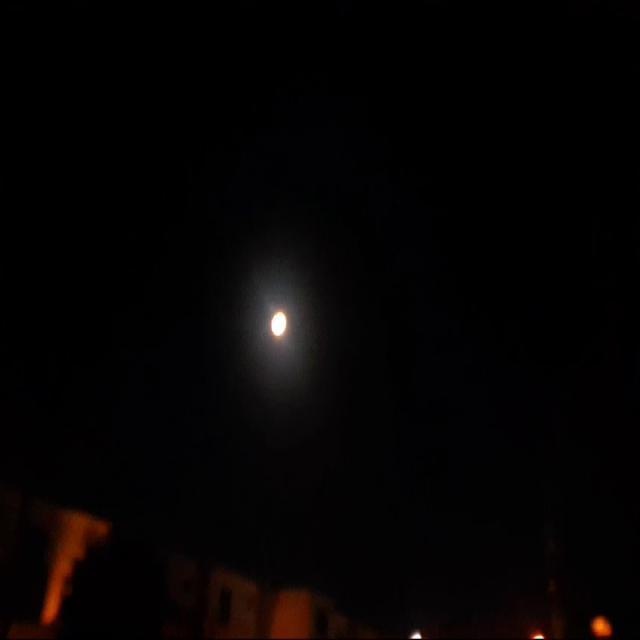moon: (265, 303, 287, 342)
